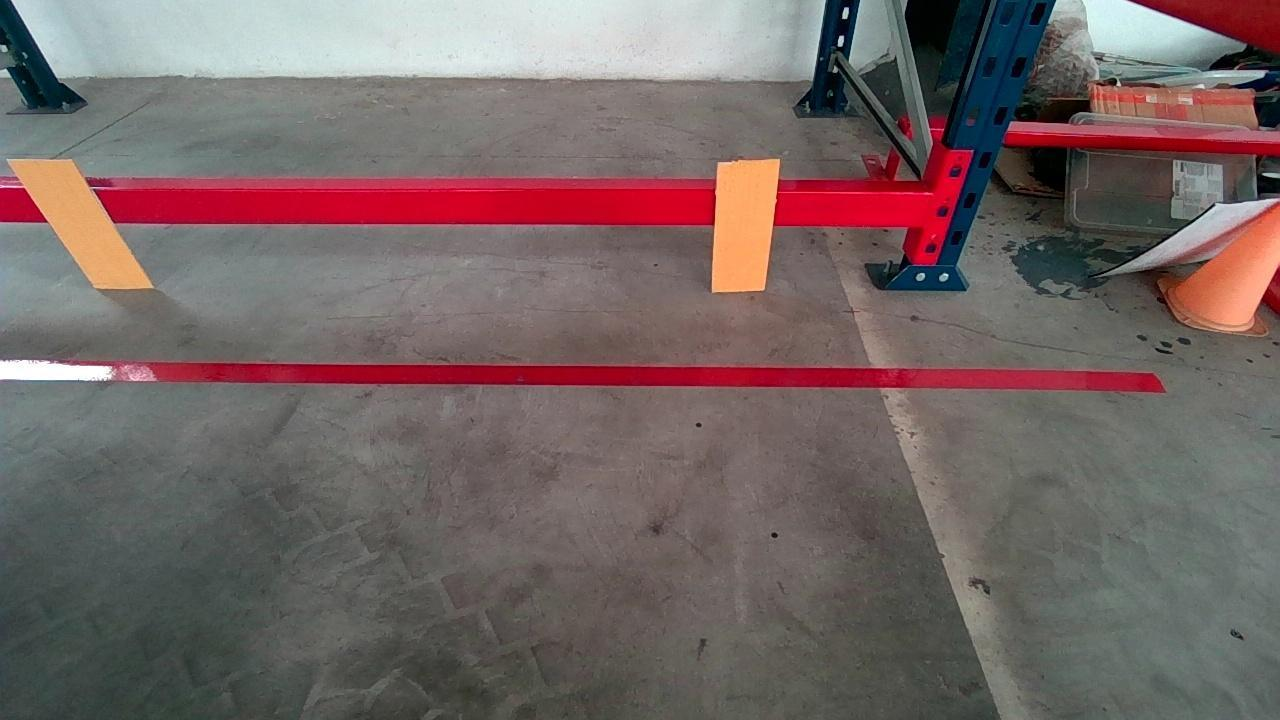h_rack: (3, 181, 930, 230)
orange_strip: (14, 161, 152, 289), (712, 159, 777, 291)
red_line: (0, 356, 1170, 391)
